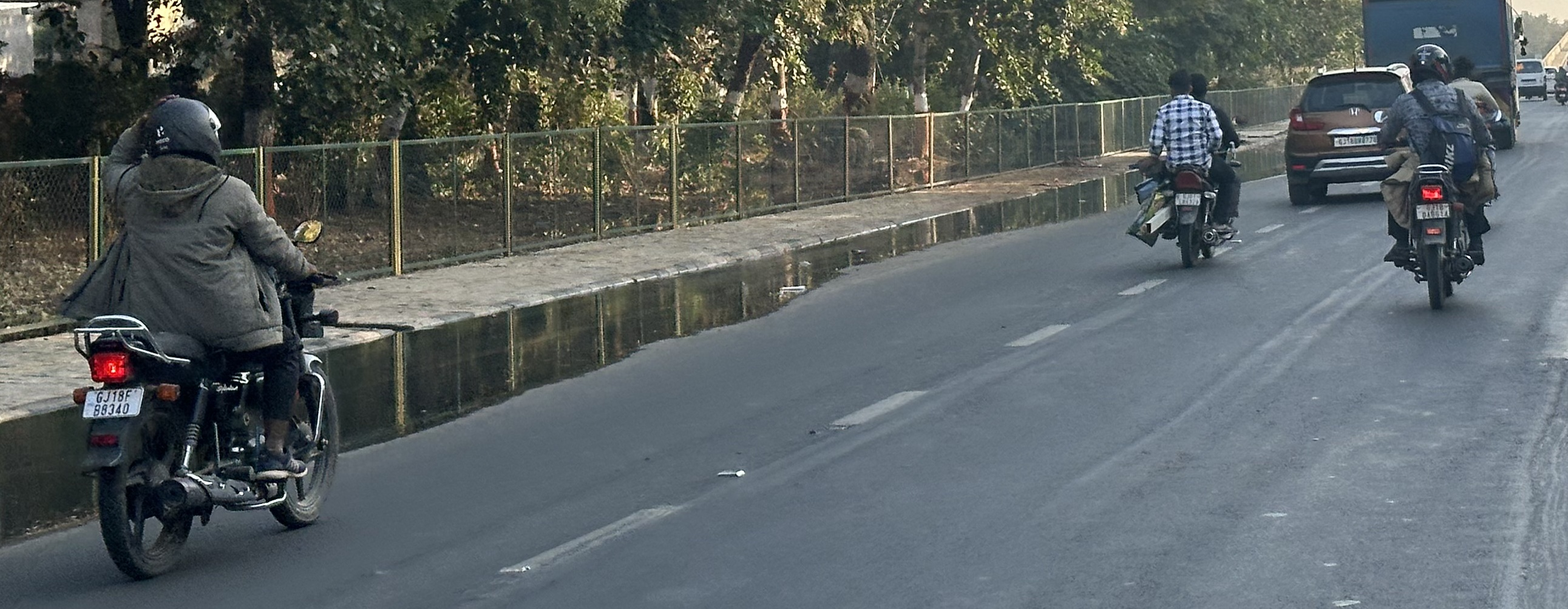BikeWithRider: (44, 88, 361, 591), (1367, 36, 1510, 318), (1116, 61, 1255, 275)
Helmet: (120, 90, 235, 175), (1403, 38, 1456, 89)
NoHelmet: (1164, 65, 1207, 104)
